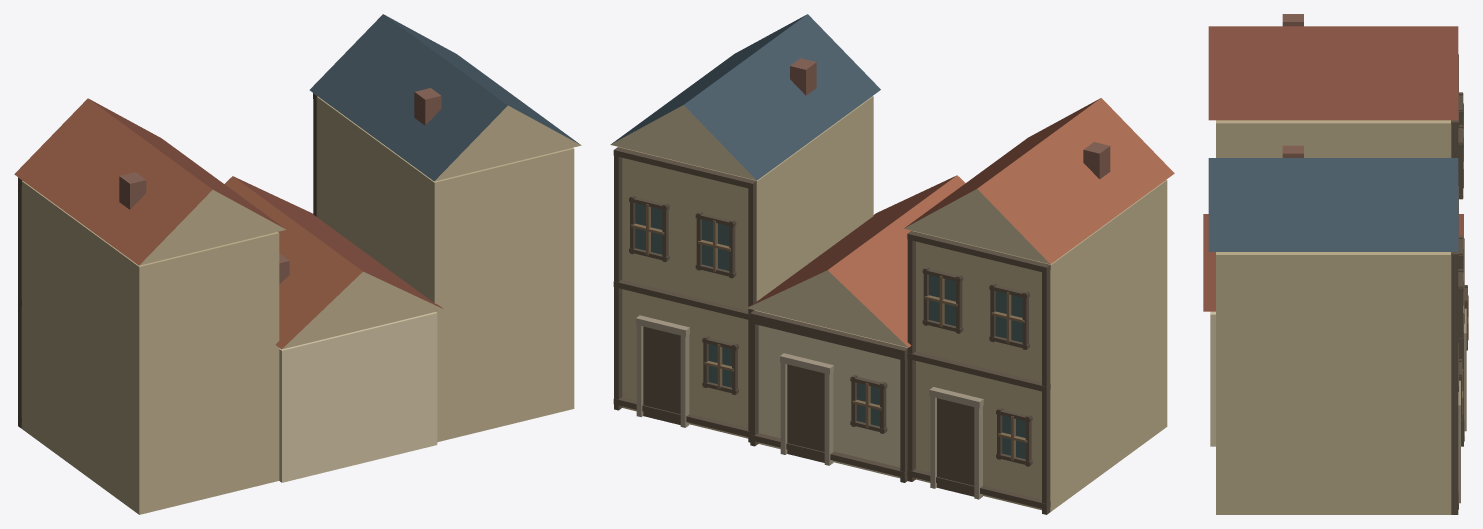
The model's file is WalkTown_RowB.fbx.
The picture shows the model from 3 angles, left to right: view 1: azimuth 30°, elevation 25°; view 2: azimuth 150°, elevation 25°; view 3: azimuth 270°, elevation 25°; orthographic projection.
Parts seen in each view (by area): view 1: WalkTown_RowB; view 2: WalkTown_RowB; view 3: WalkTown_RowB.
Boxes of the visible parts, left/top/right/bottom form: WalkTown_RowB: left=14, top=14, right=581, bottom=514; WalkTown_RowB: left=610, top=14, right=1174, bottom=514; WalkTown_RowB: left=1203, top=14, right=1468, bottom=514.
Bounding box in the file's own units: 11.4 × 7.95 × 5.93.
